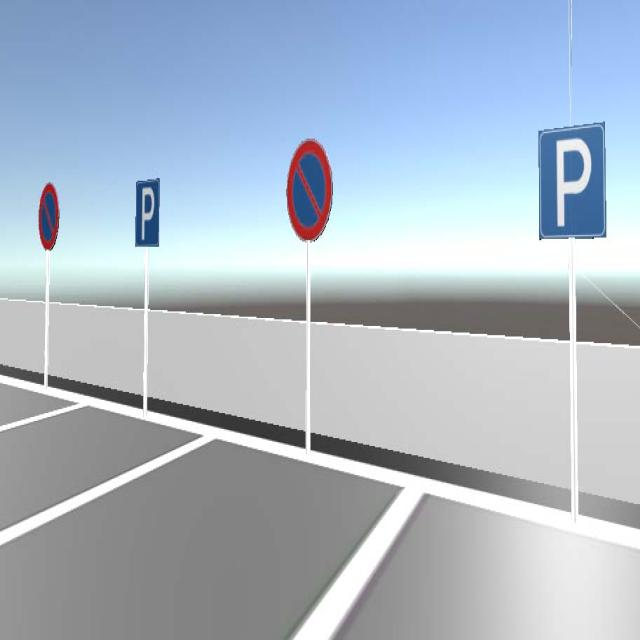park: (538, 124, 606, 239), (136, 181, 160, 245)
parkyasak: (287, 140, 333, 240), (38, 185, 59, 249)
